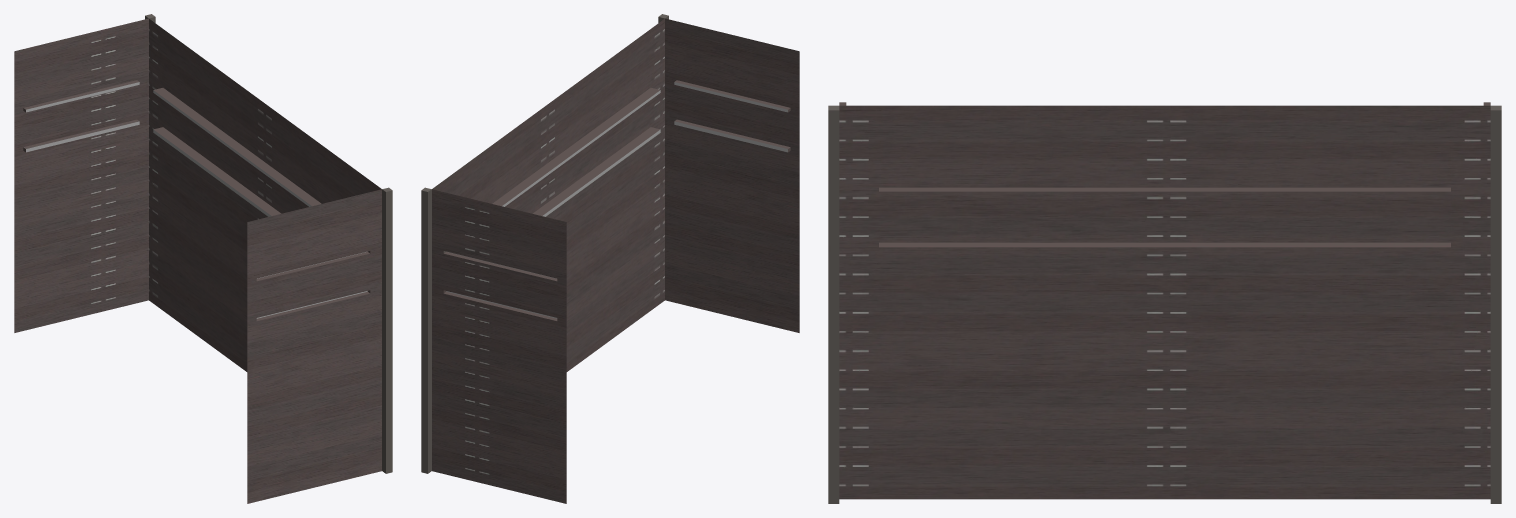
Rendered from sm_cb01_module06.glb.
3 renders of one model, left to right at view 1: azimuth 30°, elevation 25°; view 2: azimuth 150°, elevation 25°; view 3: azimuth 270°, elevation 25°, orthographic. The views are drawn at different scales.
Parts seen in each view (by area): view 1: sm_cb01_module06; view 2: sm_cb01_module06; view 3: sm_cb01_module06.
Boxes of the visible parts, <box> form: sm_cb01_module06: <box>14,14,392,503</box>; sm_cb01_module06: <box>421,14,799,503</box>; sm_cb01_module06: <box>828,102,1501,503</box>.
Size of the model in its own units: 3.15 by 6 by 9.3.
Materials: 1 (1 with a texture image).
